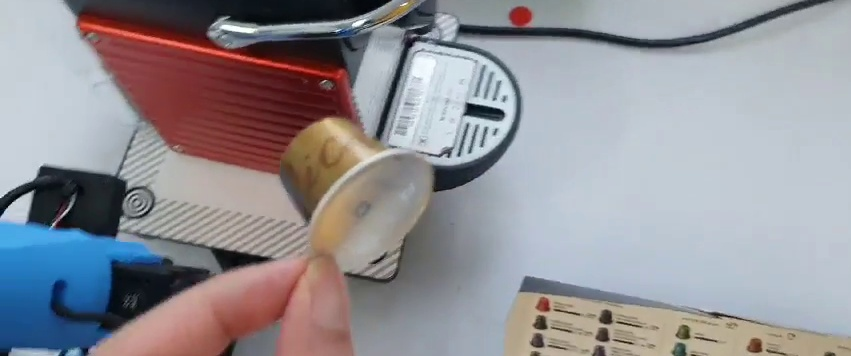capsule_9: (278, 114, 434, 269)
